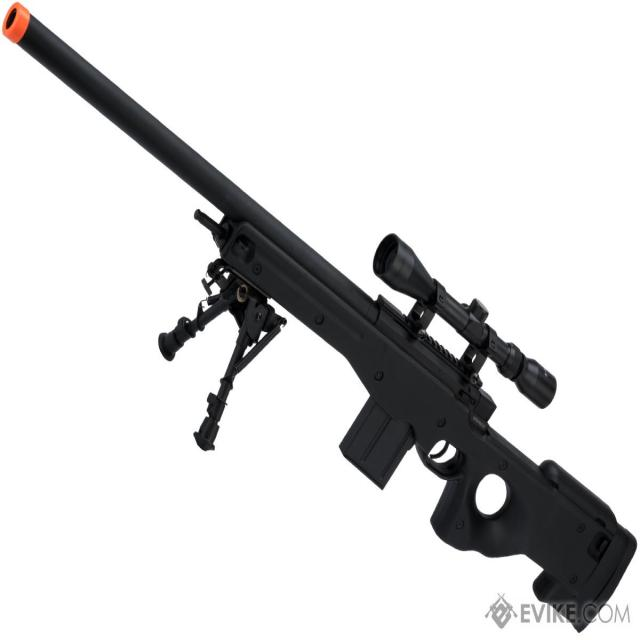Rifle: (0, 2, 639, 633)
